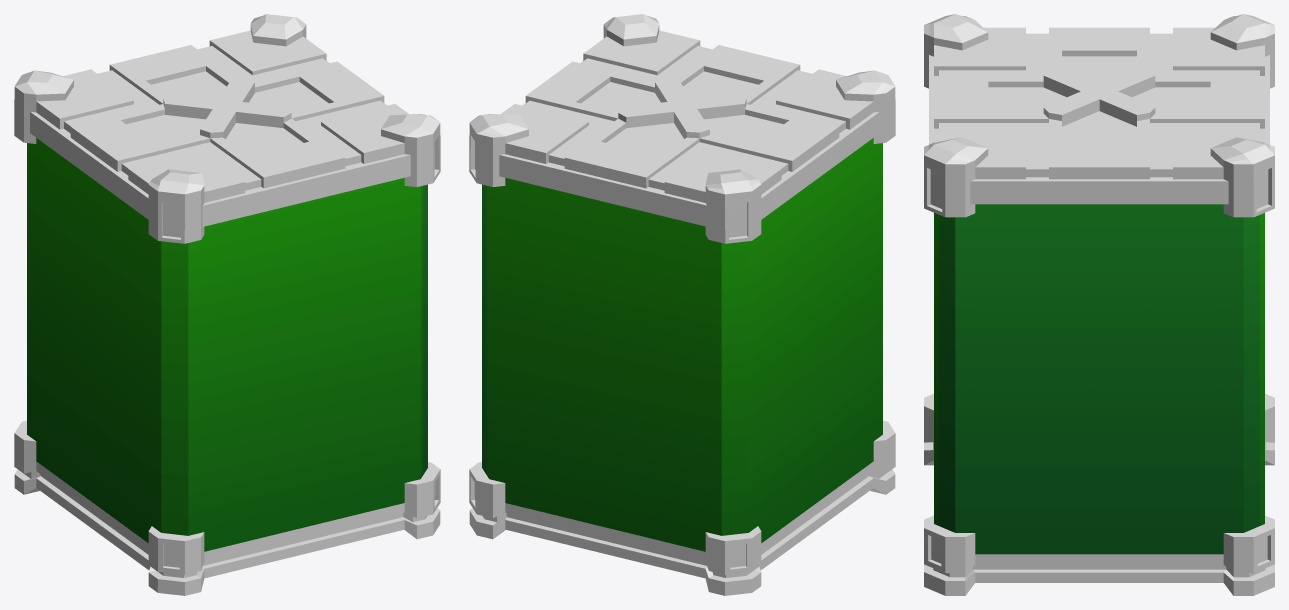
3 views of the same model, side by side, from view 1: azimuth 30°, elevation 25°; view 2: azimuth 150°, elevation 25°; view 3: azimuth 270°, elevation 25° (orthographic). The views are drawn at different scales.
Visible parts, largest first — view 1: Cube Containter; view 2: Cube Containter; view 3: Cube Containter.
Boxes of the visible parts, box(x1,y1,x2,y2) form: Cube Containter: box(14, 14, 440, 595); Cube Containter: box(469, 14, 895, 595); Cube Containter: box(924, 14, 1274, 595).
Size of the model in its own units: 3.29 by 4.53 by 3.29.
2 materials, 1 textured.
